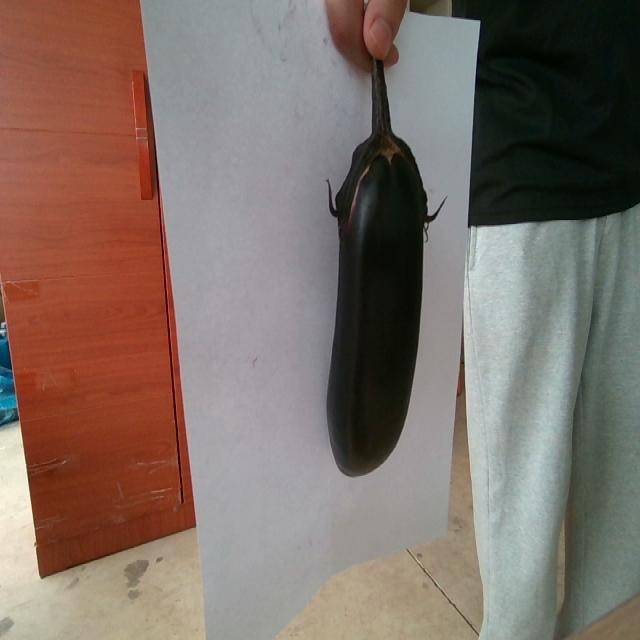Egg plant: (327, 60, 443, 475)
